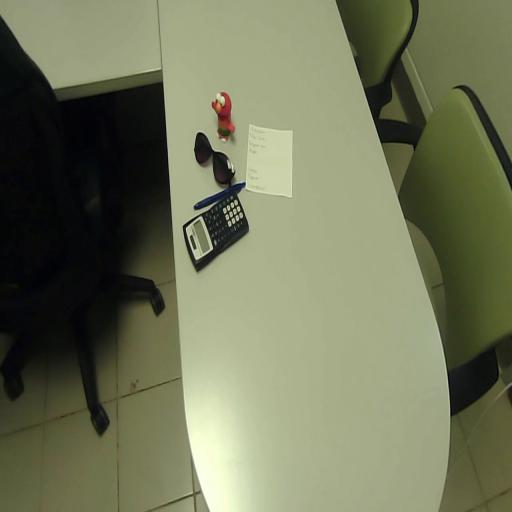pen: (194, 183, 245, 210)
